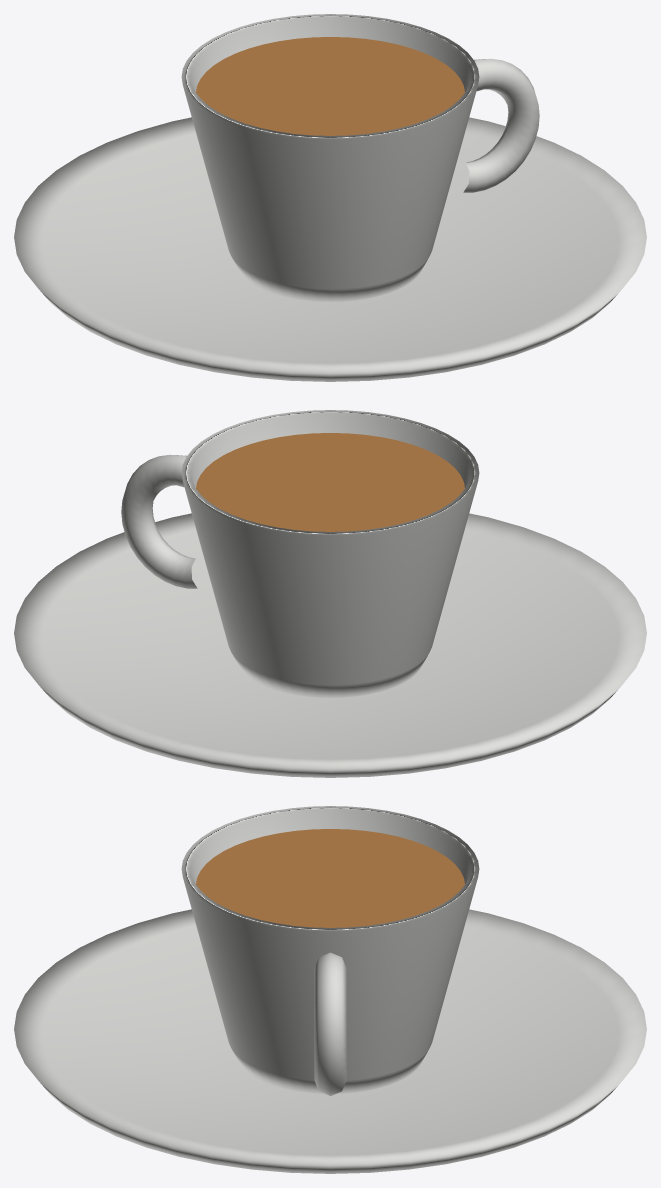
The model's file is cafe.glb.
3 views of the same model, one above another, from view 1: azimuth 30°, elevation 25°; view 2: azimuth 150°, elevation 25°; view 3: azimuth 270°, elevation 25° (orthographic).
Parts seen in each view (by area): view 1: cafe; view 2: cafe; view 3: cafe.
Boxes of the visible parts, box(x1,y1,x2,y2) form: cafe: box(14, 14, 646, 381); cafe: box(14, 410, 646, 777); cafe: box(14, 806, 646, 1173).
Bounding box in the file's own units: 0.136 × 0.05 × 0.136.
